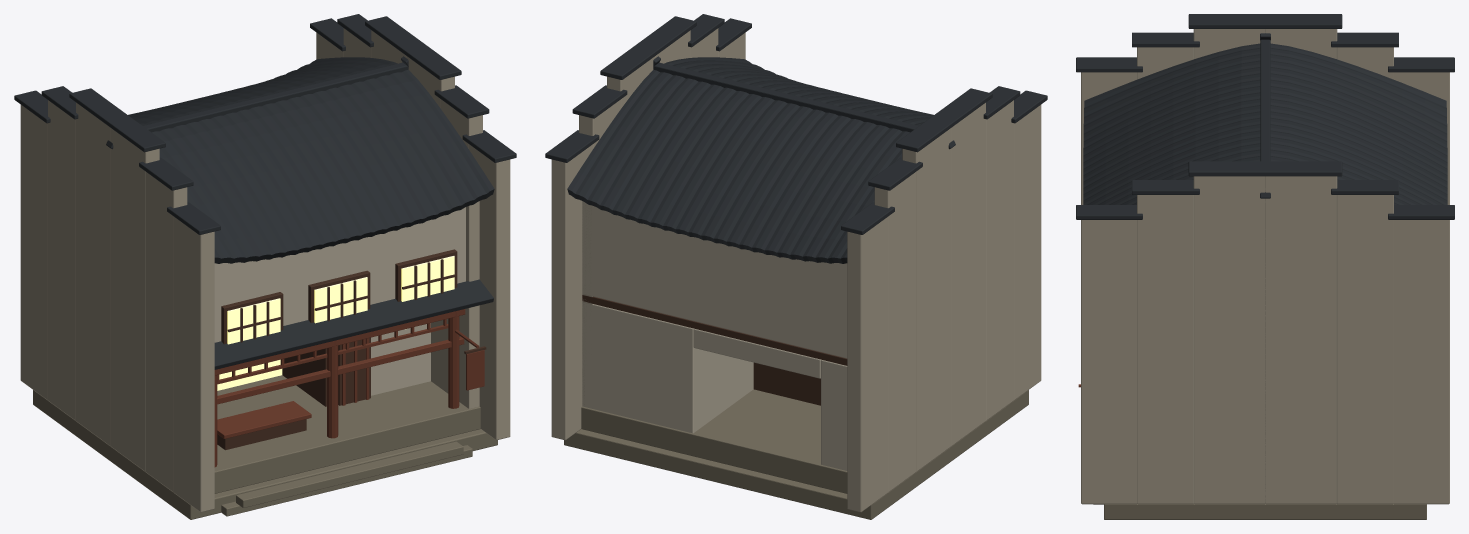
File: house_shop.glb
3 views of the same model, side by side, from view 1: azimuth 30°, elevation 25°; view 2: azimuth 150°, elevation 25°; view 3: azimuth 270°, elevation 25° (orthographic). The views are drawn at different scales.
Visible parts, largest first — view 1: house_shop; view 2: house_shop; view 3: house_shop.
Part boxes in pixels (x1,y1,x2,y2): house_shop: (14, 14, 516, 519); house_shop: (545, 14, 1047, 519); house_shop: (1076, 14, 1454, 519).
Bounding box in the file's own units: 7.48 × 7.72 × 7.56.
